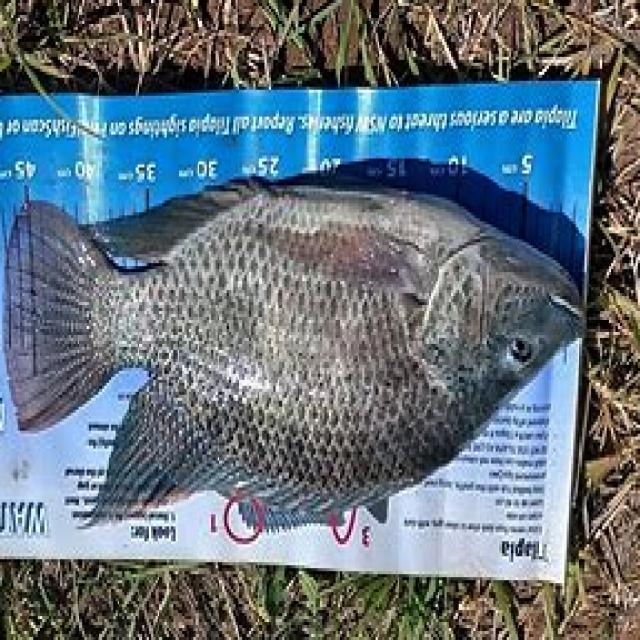Tilapia: (2, 181, 587, 524)
